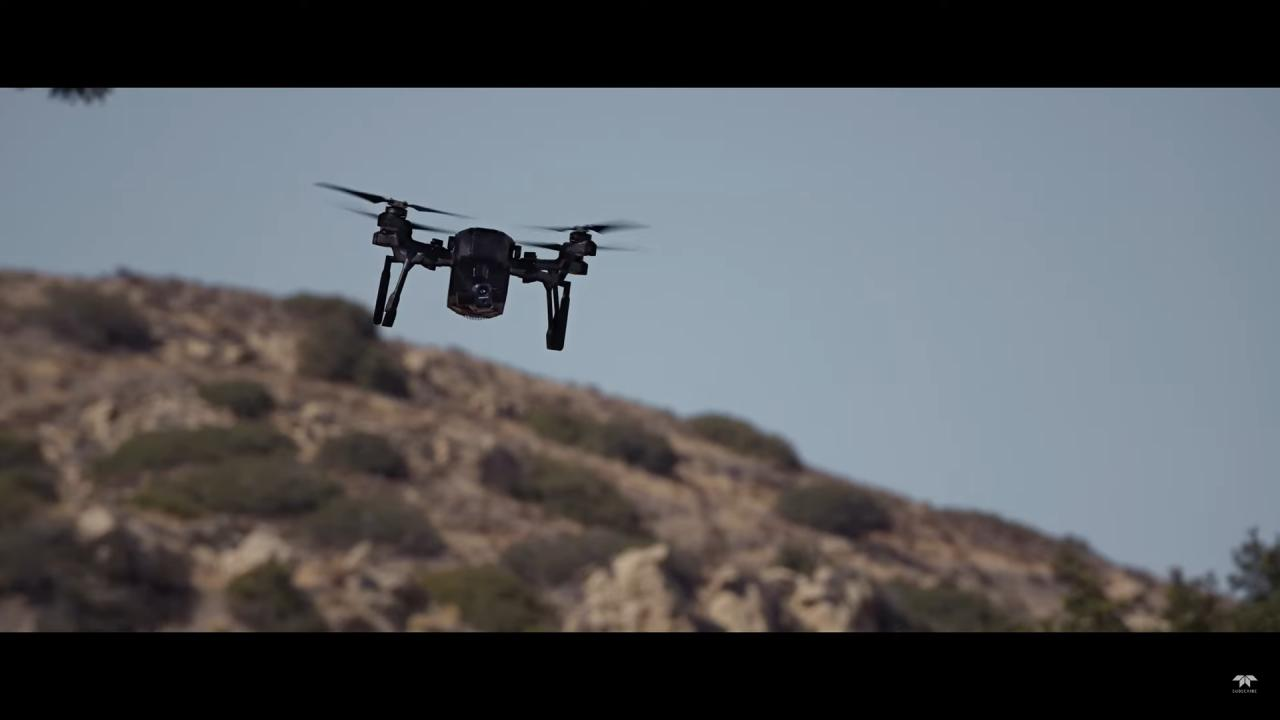Drone: (304, 168, 663, 368)
